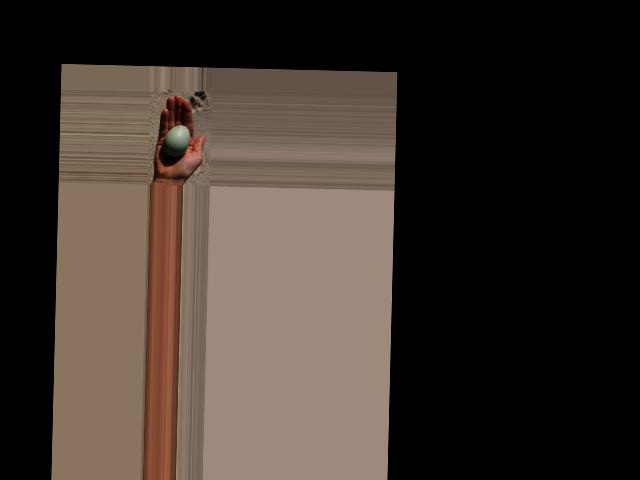egg: (162, 125, 189, 156)
